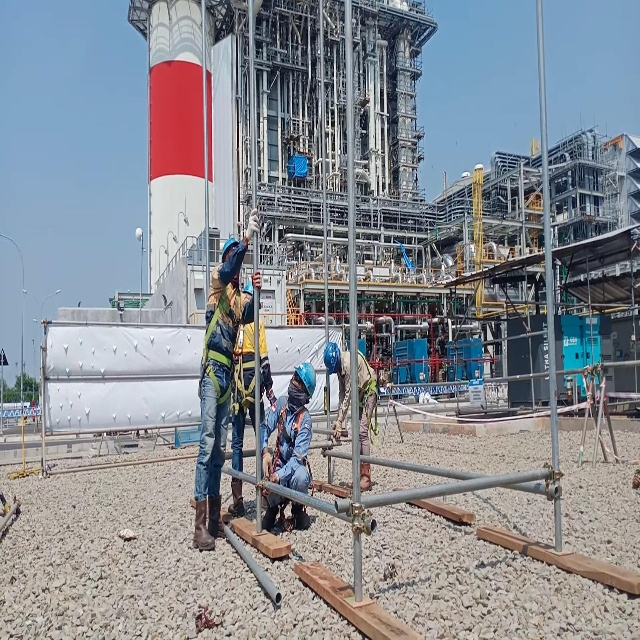Arnes_seguridad: (271, 396, 313, 532), (197, 274, 233, 406), (345, 344, 382, 447), (233, 321, 266, 417)
